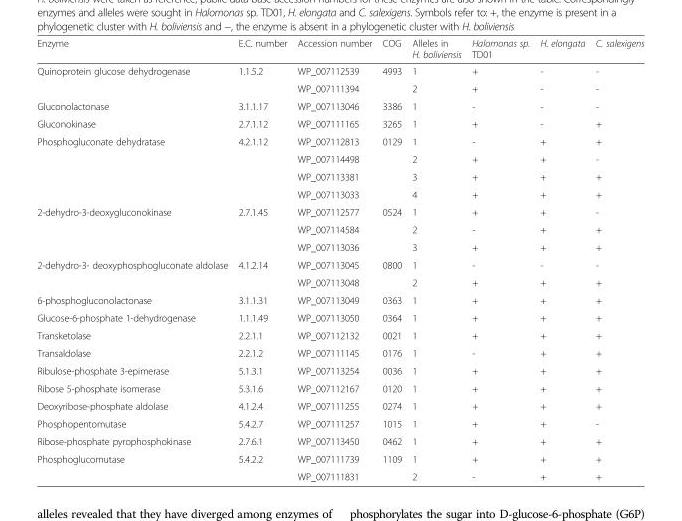table: (36, 37, 643, 481)
table column: (36, 37, 232, 481), (291, 37, 376, 481), (465, 37, 534, 481), (232, 37, 291, 481), (406, 37, 465, 481), (534, 37, 589, 481), (589, 37, 643, 481), (376, 37, 406, 481)
table column header: (36, 37, 643, 62)
table row: (36, 37, 643, 62), (36, 79, 643, 97), (36, 114, 643, 132), (36, 149, 643, 167), (36, 167, 643, 185), (36, 202, 643, 220), (36, 220, 643, 238), (36, 255, 643, 273), (36, 273, 643, 291), (36, 308, 643, 326), (36, 343, 643, 361), (36, 361, 643, 379), (36, 396, 643, 414), (36, 414, 643, 432), (36, 449, 643, 467), (36, 62, 643, 79), (36, 97, 643, 114), (36, 132, 643, 149), (36, 185, 643, 202), (36, 238, 643, 255), (36, 291, 643, 308), (36, 326, 643, 343), (36, 379, 643, 396), (36, 432, 643, 449), (36, 467, 643, 481)
table spanning cell: (36, 132, 232, 202), (36, 202, 232, 255), (36, 255, 232, 291), (36, 62, 232, 97), (36, 449, 232, 481), (232, 132, 291, 202), (232, 202, 291, 255), (232, 255, 291, 291), (376, 132, 406, 202), (232, 62, 291, 97), (232, 449, 291, 481), (376, 202, 406, 255), (376, 255, 406, 291), (376, 62, 406, 97), (376, 449, 406, 481)
